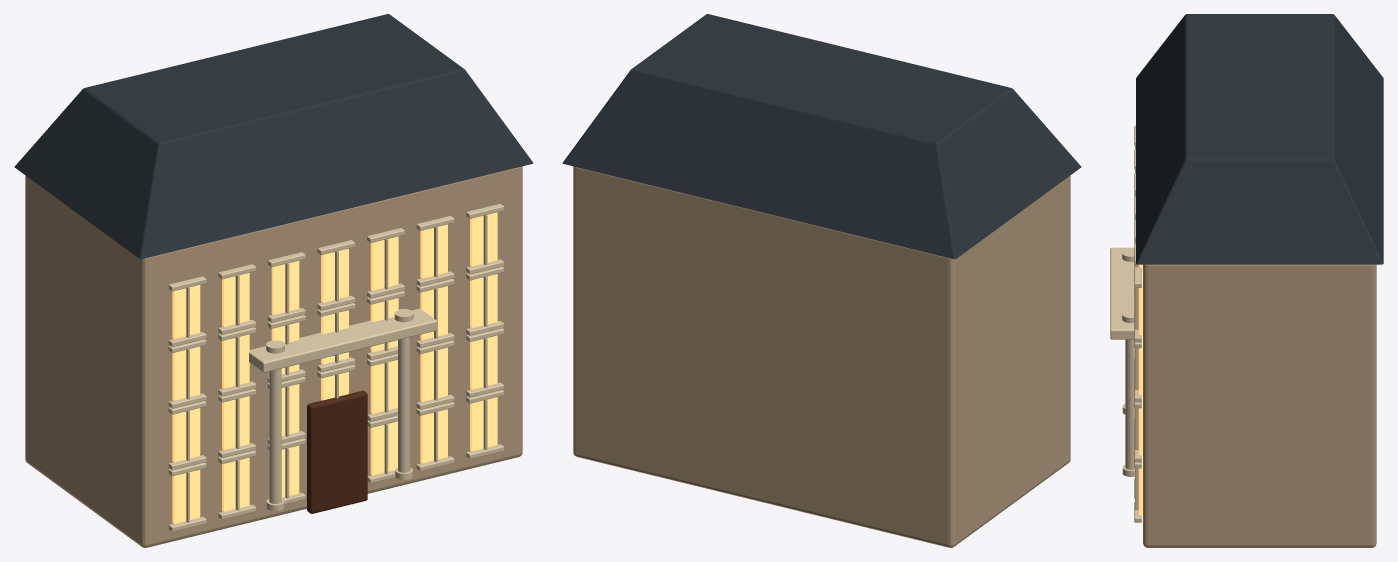
Rendered from paris-hotel.glb.
The picture shows the model from 3 angles, left to right: view 1: azimuth 30°, elevation 25°; view 2: azimuth 150°, elevation 25°; view 3: azimuth 270°, elevation 25°; orthographic projection. The views are drawn at different scales.
Parts seen in each view (by area): view 1: Optimized Paris landmark; view 2: Optimized Paris landmark; view 3: Optimized Paris landmark.
Boxes of the visible parts, left/top/right/bottom form: Optimized Paris landmark: left=14, top=14, right=533, bottom=547; Optimized Paris landmark: left=562, top=14, right=1081, bottom=547; Optimized Paris landmark: left=1110, top=14, right=1383, bottom=547.
Bounding box in the file's own units: 9.5 × 8.8 × 5.85.
